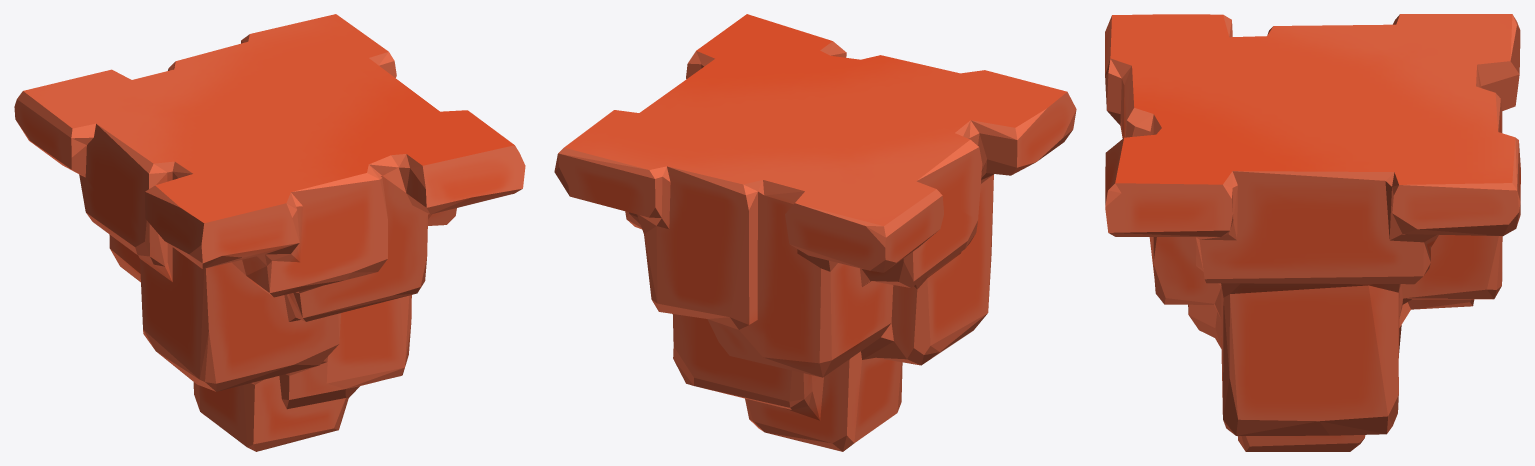
The model's file is Platform_3_3.fbx.
3 renders of one model, left to right at view 1: azimuth 30°, elevation 25°; view 2: azimuth 150°, elevation 25°; view 3: azimuth 270°, elevation 25°, orthographic. The views are drawn at different scales.
Parts seen in each view (by area): view 1: Cube.075; view 2: Cube.075; view 3: Cube.075.
Boxes of the visible parts, bbox=[...] form: Cube.075: bbox=[14, 14, 525, 451]; Cube.075: bbox=[554, 14, 1076, 451]; Cube.075: bbox=[1105, 14, 1520, 451].
Bounding box in the file's own units: 300 × 265 × 300.
